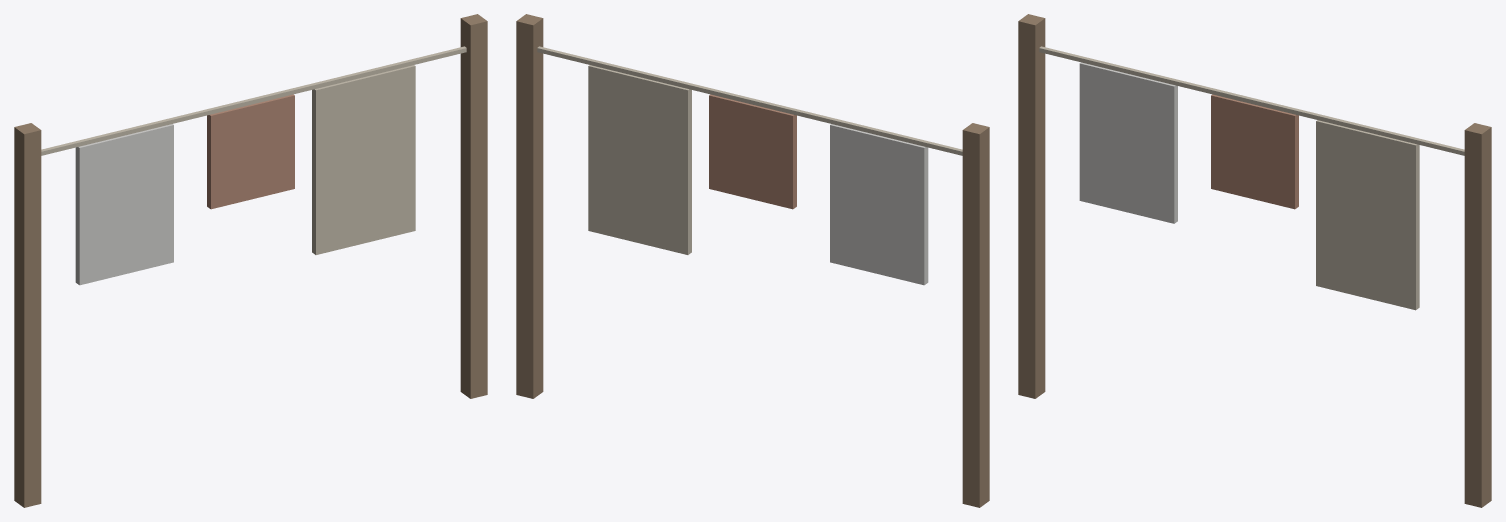
Rendered from washing-line.glb.
3 renders of one model, left to right at view 1: azimuth 30°, elevation 25°; view 2: azimuth 150°, elevation 25°; view 3: azimuth 330°, elevation 25°, orthographic.
Parts seen in each view (by area): view 1: washing_line; view 2: washing_line; view 3: washing_line.
Boxes of the visible parts, box(x1,y1,x2,y2) form: washing_line: box(14, 14, 487, 507); washing_line: box(516, 14, 989, 507); washing_line: box(1018, 14, 1491, 507).
Size of the model in its own units: 0.8531 by 0.6573 by 0.0314.
